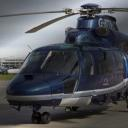helicopter: (4, 6, 128, 127)
